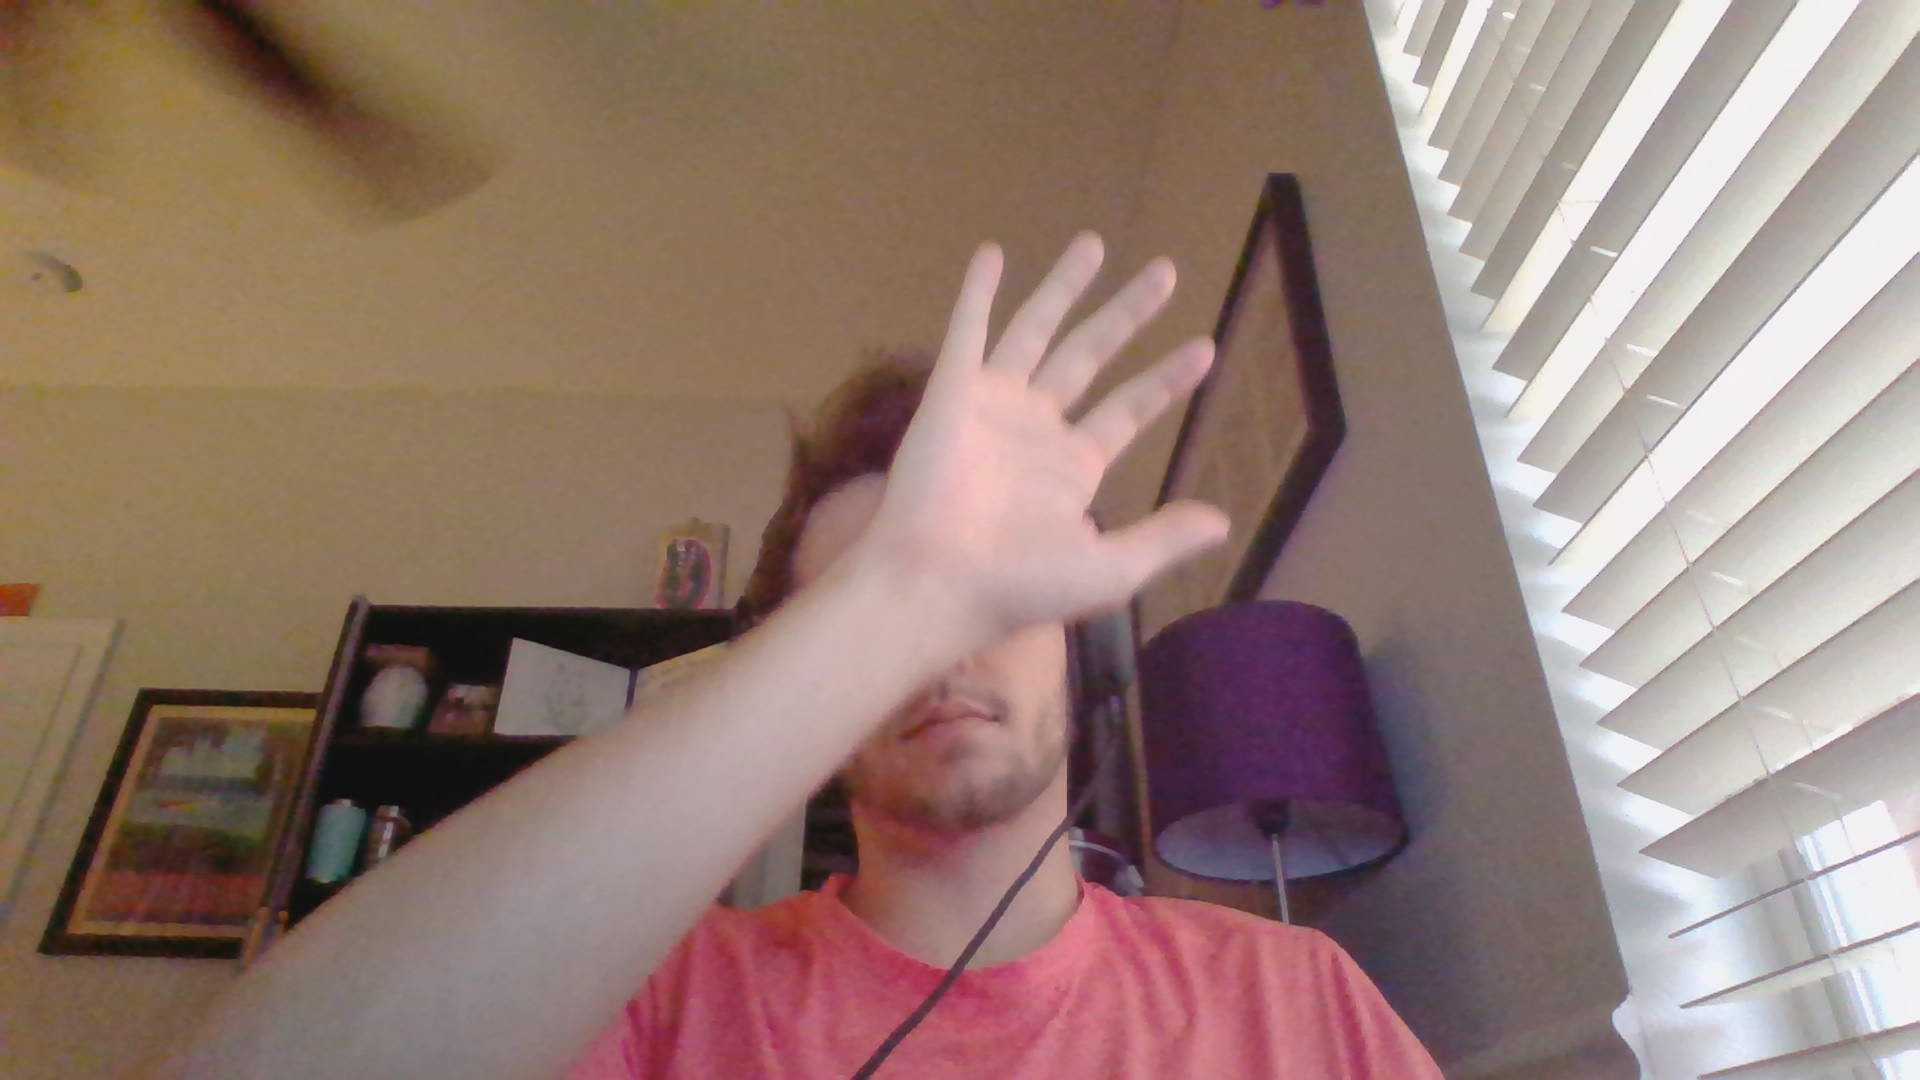Right Palm Up: (868, 222, 1242, 622)
